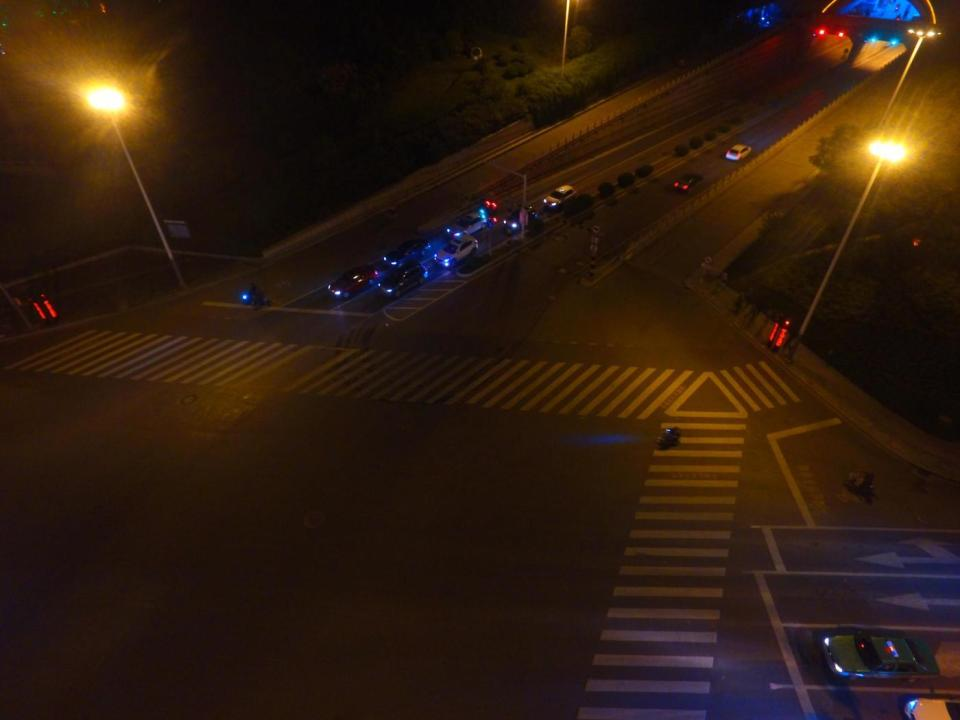car: (820, 634, 937, 680), (326, 266, 376, 300), (380, 263, 426, 298), (384, 238, 430, 270), (434, 235, 476, 266), (447, 213, 487, 240), (542, 185, 576, 211), (503, 210, 536, 234), (672, 172, 703, 190), (725, 142, 751, 162)
